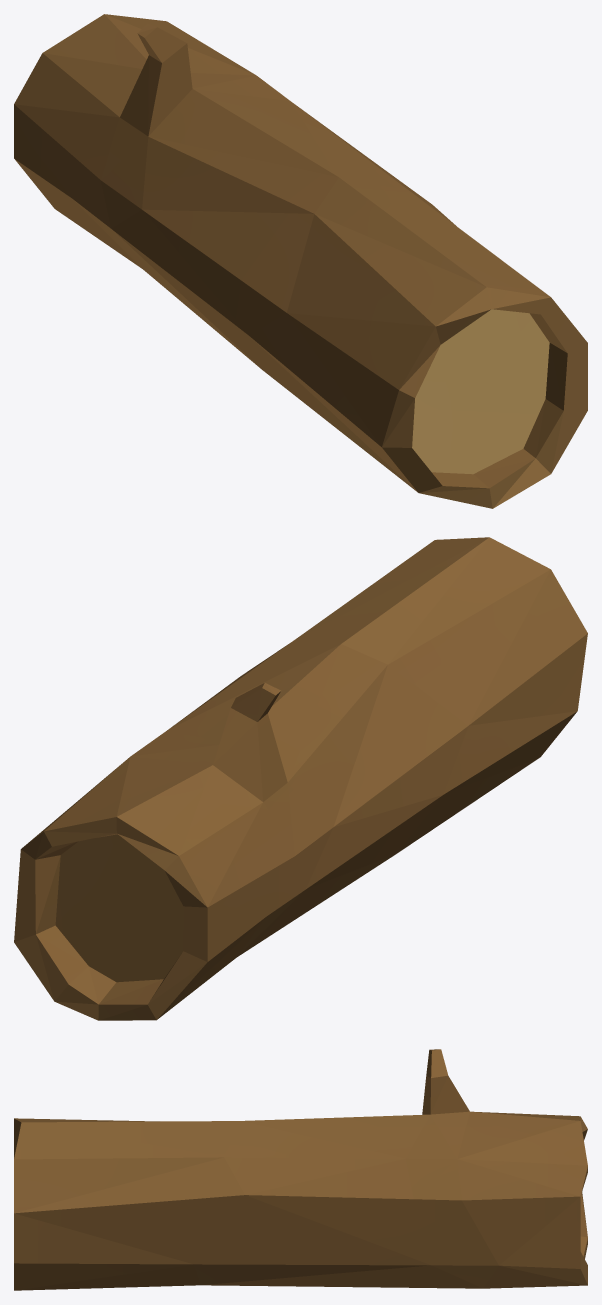
File: log_5.obj
3 renders of one model, top to bottom at view 1: azimuth 30°, elevation 25°; view 2: azimuth 150°, elevation 25°; view 3: azimuth 270°, elevation 25°, orthographic. The views are drawn at different scales.
Visible parts, largest first — view 1: log_5_Material; view 2: log_5_Material; view 3: log_5_Material.
Part boxes in pixels (left/top/right/bottom): log_5_Material: left=14, top=14, right=587, bottom=508; log_5_Material: left=14, top=537, right=587, bottom=1020; log_5_Material: left=14, top=1049, right=587, bottom=1290.
Size of the model in its own units: 0.1604 by 0.2302 by 0.558.
